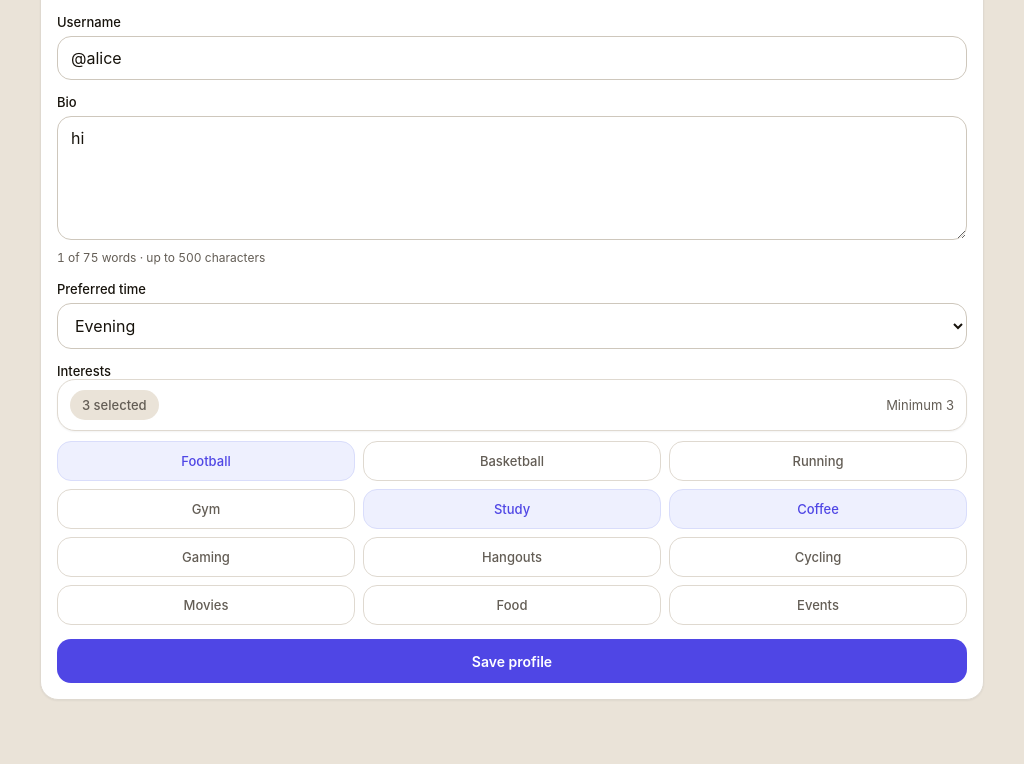
a refused save stays on the page and says so
The width and height of the screenshot is (1024, 764).
(page scrolled)
Click the button "Save profile".
click(512, 661)  # box [57,639,967,683]
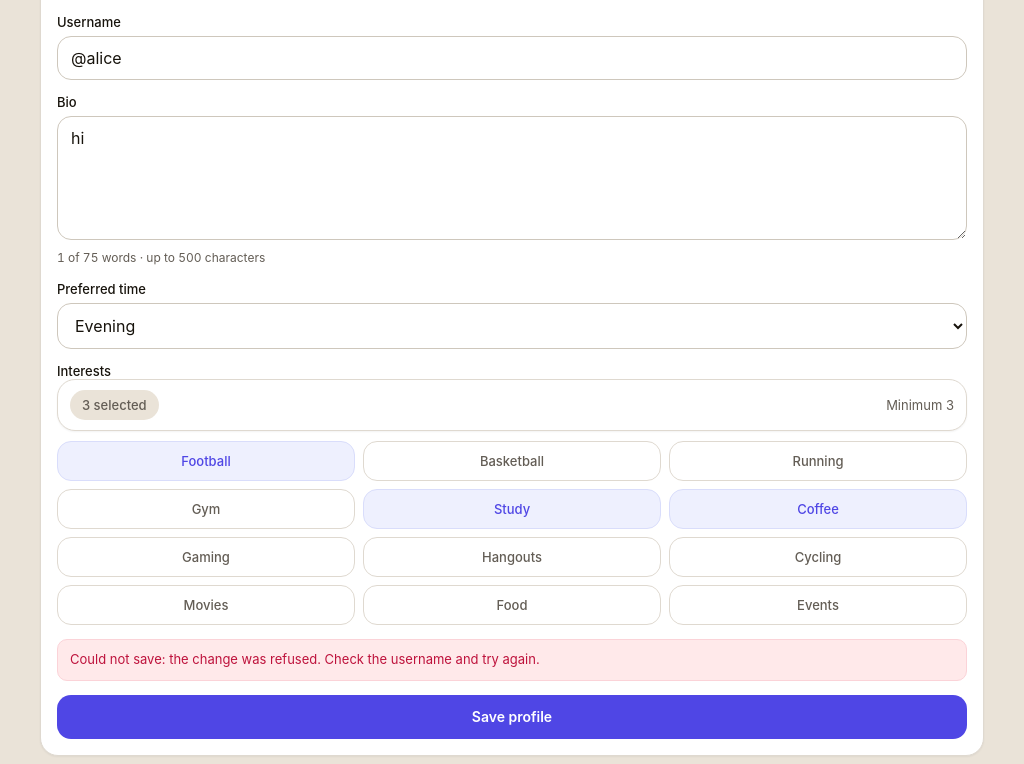
Check: the message shows "Could not save", box [70,651,540,667]
